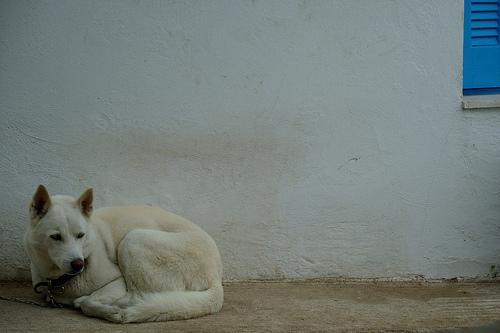dog: (23, 183, 224, 322)
